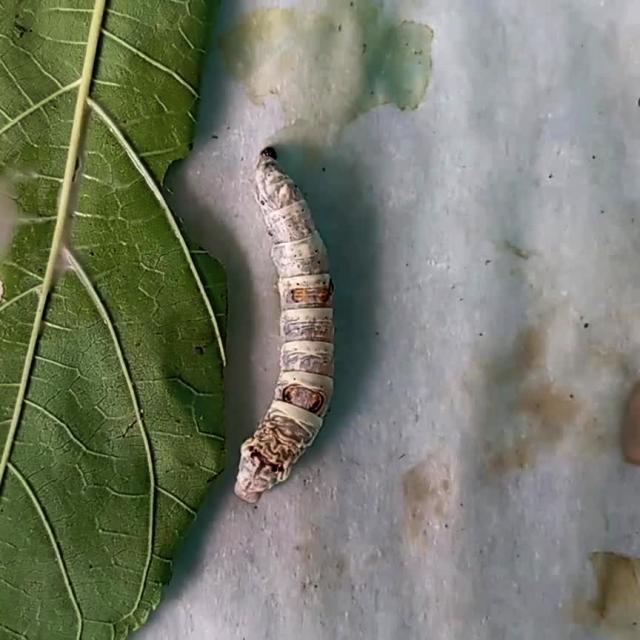Grasserie: (208, 125, 360, 521)
